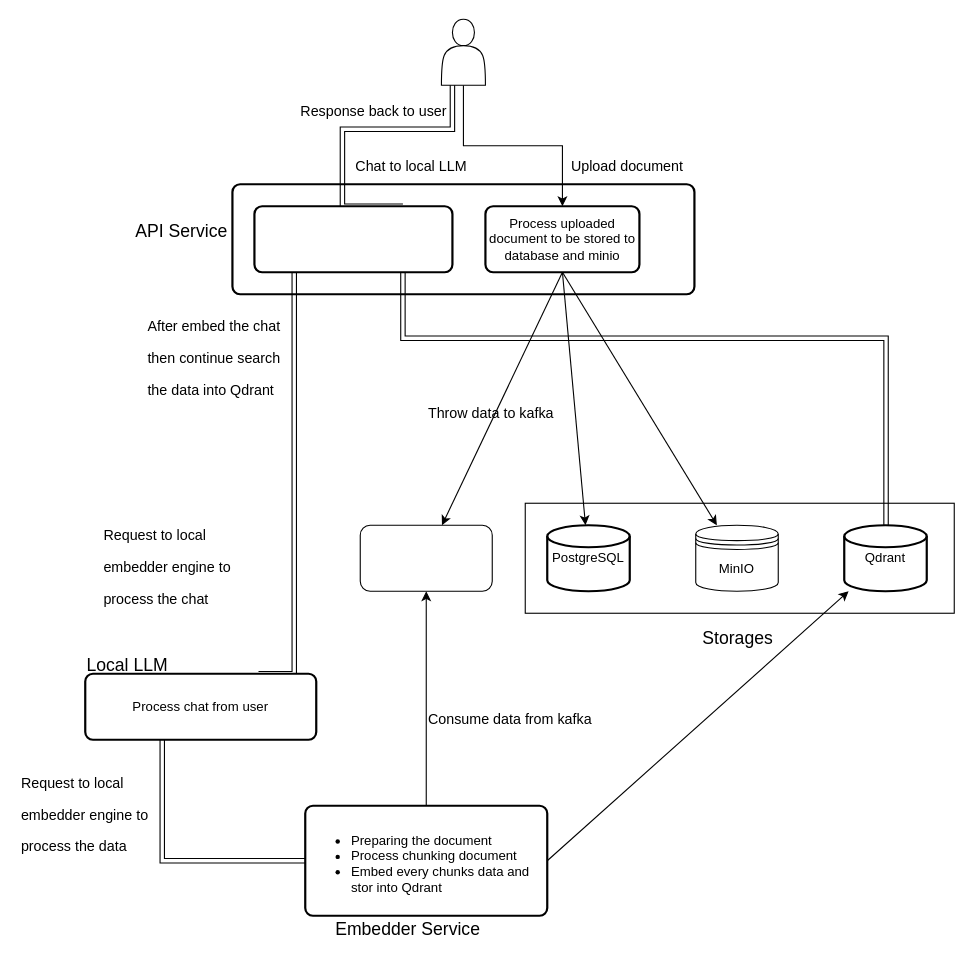
The diagram is 974 pixels wide and 961 high, and some of its shapes have lost their labels. The box of each missing label's shape, as (x1, y1, x2, y2) in pixels:
Kafka Topic document-parser: (359, 524, 492, 591)
Process chat from user need embed the chat and search data on Qdrant: (253, 205, 453, 273)
User: (440, 18, 485, 85)
